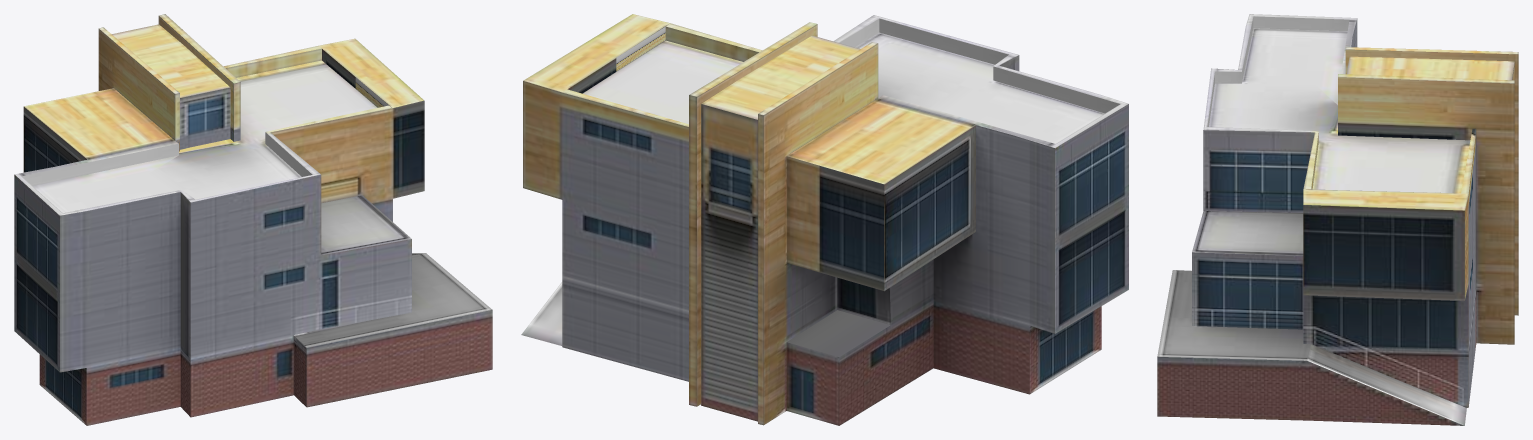
3 views of the same model, side by side, from view 1: azimuth 30°, elevation 25°; view 2: azimuth 150°, elevation 25°; view 3: azimuth 270°, elevation 25° (orthographic). The views are drawn at different scales.
Visible parts, largest first — view 1: MainBuilding; view 2: MainBuilding; view 3: MainBuilding.
Boxes of the visible parts, box(x1,y1,x2,y2) form: MainBuilding: box(14, 14, 492, 425); MainBuilding: box(521, 14, 1128, 425); MainBuilding: box(1157, 14, 1518, 425).
Bounding box in the file's own units: 1.9 × 1.17 × 1.47.
1 material, 1 textured.
